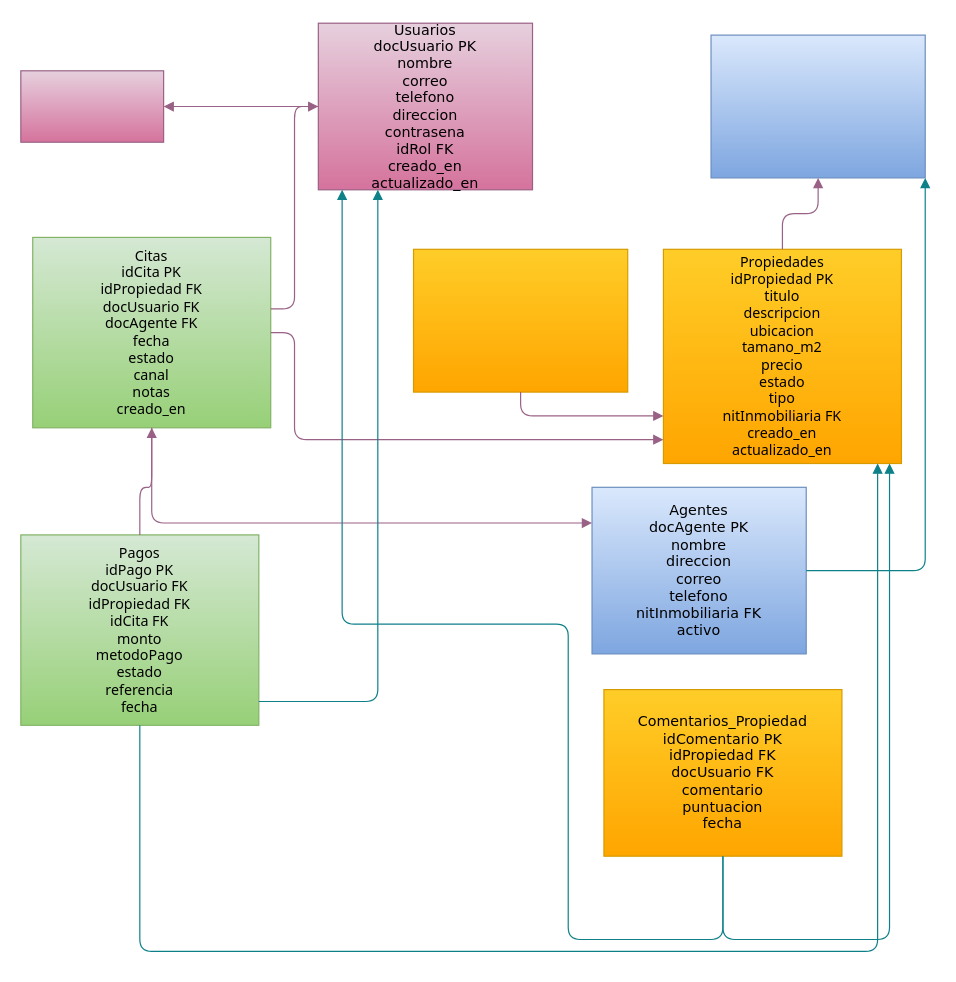
This 956x982 diagram has some shape labels left out. Here are the shapes that lost their labels. From the top down, the centre of each, then its label:
At point 92,106: "Roles idRol PK nombre".
At point 817,106: "Inmobiliarias nitInmobiliaria PK nombre correo telefono direccion objetivo".
At point 520,320: "Propiedad_Imagenes idImagen PK idPropiedad FK urlImagen orden creado_en".
